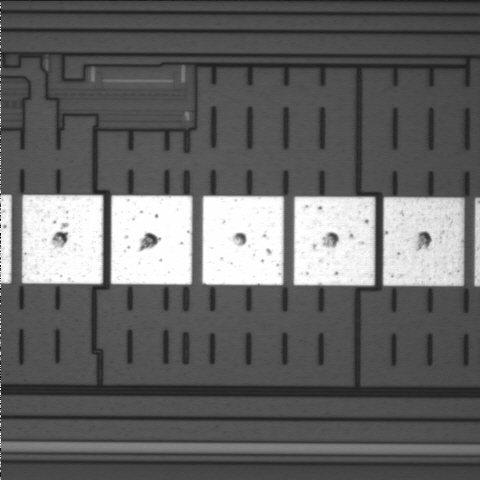pad: (202, 196, 284, 285), (111, 195, 192, 285), (22, 195, 103, 284), (294, 197, 375, 286), (383, 197, 464, 286)
